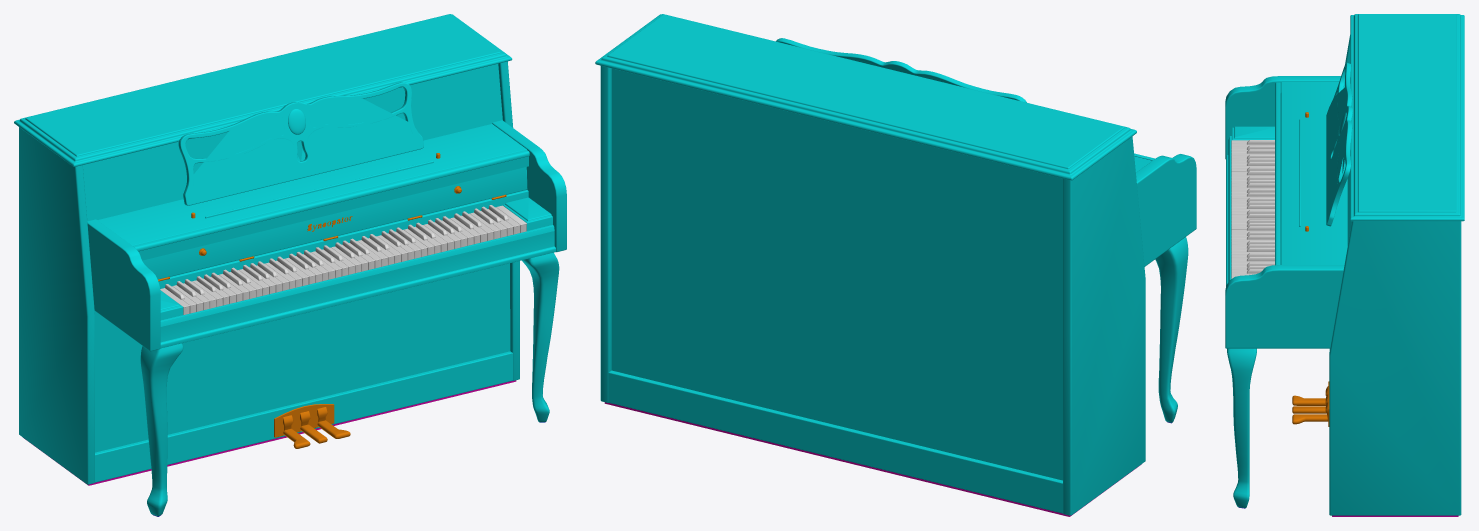
The model's file is Upright_Piano.fbx.
3 views of the same model, side by side, from view 1: azimuth 30°, elevation 25°; view 2: azimuth 150°, elevation 25°; view 3: azimuth 270°, elevation 25° (orthographic). The views are drawn at different scales.
Visible parts, largest first — view 1: #INT0001_Upright_Piano; view 2: #INT0001_Upright_Piano; view 3: #INT0001_Upright_Piano.
Part boxes in pixels (box(x1,y1,x2,y2)): #INT0001_Upright_Piano: box(14, 14, 566, 516); #INT0001_Upright_Piano: box(595, 14, 1196, 516); #INT0001_Upright_Piano: box(1225, 14, 1464, 516).
Size of the model in its own units: 1.58 by 1.12 by 0.7849.
